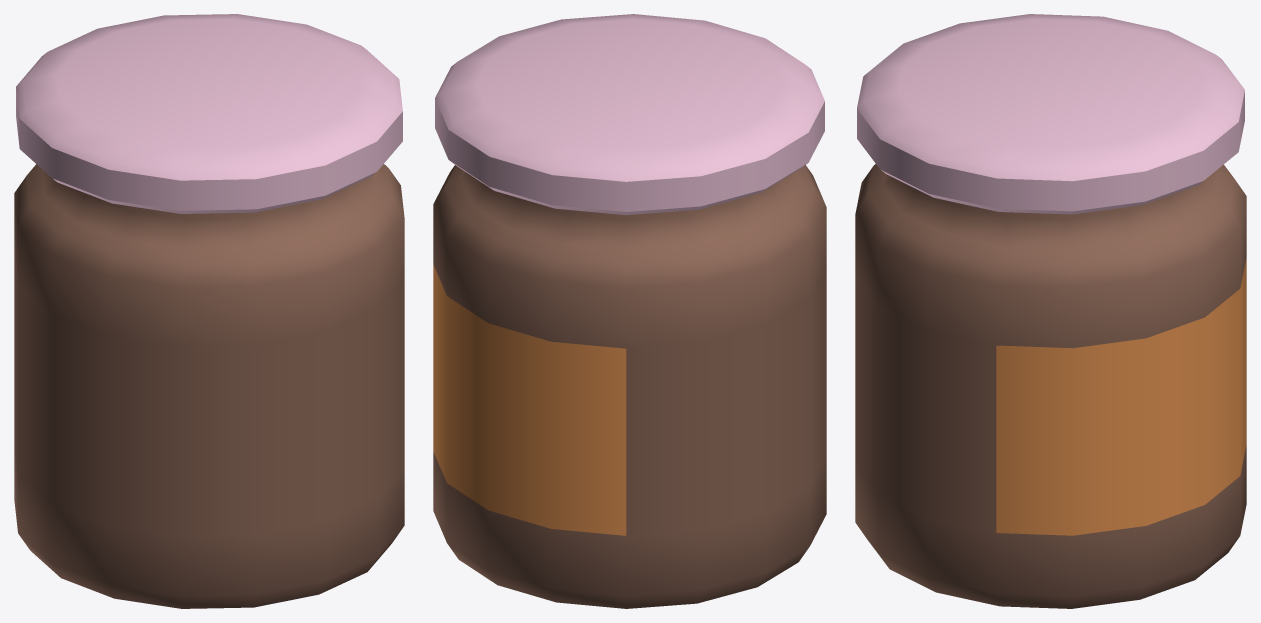
File: food_jar.fbx
3 renders of one model, left to right at view 1: azimuth 30°, elevation 25°; view 2: azimuth 150°, elevation 25°; view 3: azimuth 270°, elevation 25°, orthographic.
Visible parts, largest first — view 1: Jar.003; view 2: Jar.003; view 3: Jar.003.
Part boxes in pixels (left/top/right/bottom): Jar.003: left=14, top=14, right=404, bottom=608; Jar.003: left=433, top=14, right=826, bottom=608; Jar.003: left=855, top=14, right=1246, bottom=608.
Bounding box in the file's own units: 71.07 × 89.64 × 71.07.
